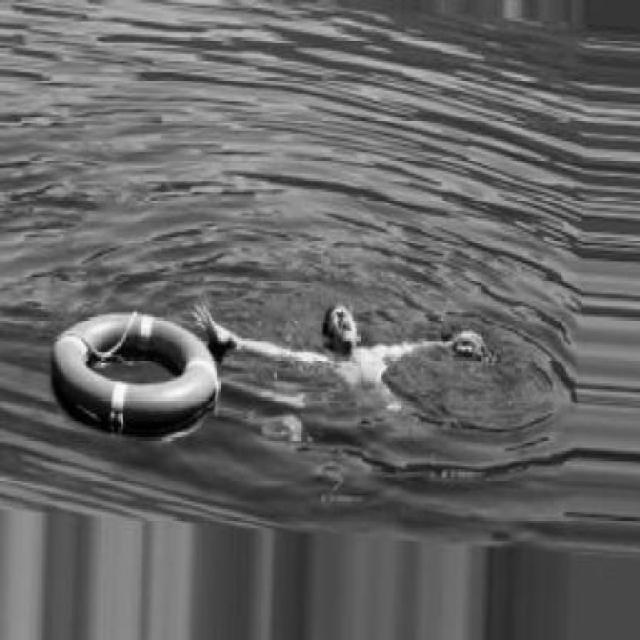drowning: (207, 237, 488, 506)
